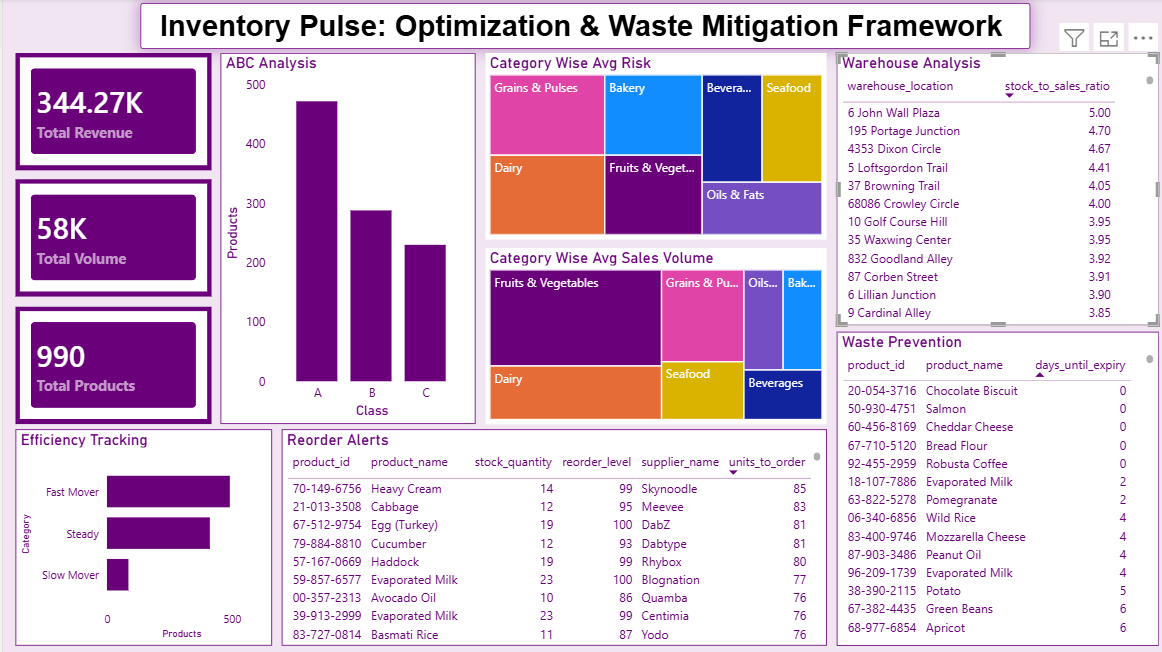

This screenshot's page, from the dashboard's own definition file:
{"tool":"powerbi","page":{"name":"Page 1","canvas":[1280,720],"ordinal":0},"visuals":[{"type":"textbox","box":[150.9,5.5,977,50.8],"z":0},{"type":"cardVisual","fields":{"Data":["public grocery_inventory.Total Revenue"]},"box":[13.7,60.4,215.4,129],"z":1000},{"type":"cardVisual","fields":{"Data":["public grocery_inventory.Total Products"]},"box":[13.7,338.9,215.4,129],"z":2000},{"type":"cardVisual","fields":{"Data":["public grocery_inventory.Total Volume"]},"box":[13.7,199,215.4,129],"z":3000},{"type":"clusteredColumnChart","title":"ABC Analysis","fields":{"Category":["public view_abc_analysis.abc_class"],"Y":["CountNonNull(public view_abc_analysis.product_name)"]},"box":[238.8,60.4,279.9,407.5],"z":4000},{"type":"tableEx","title":"Reorder Alerts","fields":{"Values":["public view_reorder_alerts.product_id","public view_reorder_alerts.product_name","public view_reorder_alerts.stock_quantity","public view_reorder_alerts.reorder_level","public view_reorder_alerts.supplier_name","public view_reorder_alerts.units_to_order"]},"box":[306,473.4,598.3,237.4],"z":5000},{"type":"clusteredBarChart","title":"Efficiency Tracking","fields":{"Category":["public view_inventory_efficiency.movement_category"],"Y":["CountNonNull(public view_inventory_efficiency.product_id)"]},"box":[13.7,473.4,281.3,237.4],"z":6000},{"type":"tableEx","title":"Waste Prevention","fields":{"Values":["public view_waste_prevention.product_id","public view_waste_prevention.product_name","public view_waste_prevention.days_until_expiry"]},"box":[915.3,366.4,354,344.4],"z":7000},{"type":"tableEx","title":"Warehouse Analysis","fields":{"Values":["public view_warehouse_analysis.warehouse_location","public view_warehouse_analysis.stock_to_sales_ratio"]},"box":[915.3,60.4,354,299.1],"z":7001},{"type":"treemap","title":"Category Wise Avg Risk","fields":{"Group":["public view_category_risk_profit.category"],"Values":["Avg(public view_category_risk_profit.risk_percentage)"]},"box":[529.7,60.4,374.6,204.5],"z":7002},{"type":"treemap","title":"Category Wise Avg Sales Volume","fields":{"Group":["public view_category_risk_profit.category"],"Values":["Avg(public view_category_risk_profit.total_sales_volume)"]},"box":[529.7,274.4,374.6,193.5],"z":7003}]}

Visuals, with their boxes in screenshot pixels (x1, y1, x2, y2), scaled from the page's 1280x720 canvas onto the 1162x652 screenshot:
textbox: {"x1": 137, "y1": 5, "x2": 1024, "y2": 51}
cardVisual - public grocery_inventory.Total Revenue: {"x1": 12, "y1": 55, "x2": 208, "y2": 172}
cardVisual - public grocery_inventory.Total Products: {"x1": 12, "y1": 307, "x2": 208, "y2": 424}
cardVisual - public grocery_inventory.Total Volume: {"x1": 12, "y1": 180, "x2": 208, "y2": 297}
"ABC Analysis" clusteredColumnChart: {"x1": 217, "y1": 55, "x2": 471, "y2": 424}
"Reorder Alerts" tableEx: {"x1": 278, "y1": 429, "x2": 821, "y2": 644}
"Efficiency Tracking" clusteredBarChart: {"x1": 12, "y1": 429, "x2": 268, "y2": 644}
"Waste Prevention" tableEx: {"x1": 831, "y1": 332, "x2": 1152, "y2": 644}
"Warehouse Analysis" tableEx: {"x1": 831, "y1": 55, "x2": 1152, "y2": 326}
"Category Wise Avg Risk" treemap: {"x1": 481, "y1": 55, "x2": 821, "y2": 240}
"Category Wise Avg Sales Volume" treemap: {"x1": 481, "y1": 248, "x2": 821, "y2": 424}
